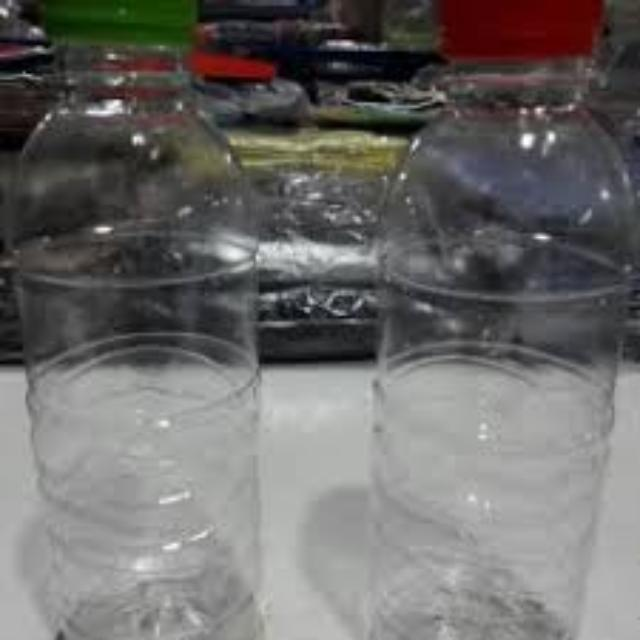trash: (367, 0, 637, 640), (7, 0, 271, 640)
